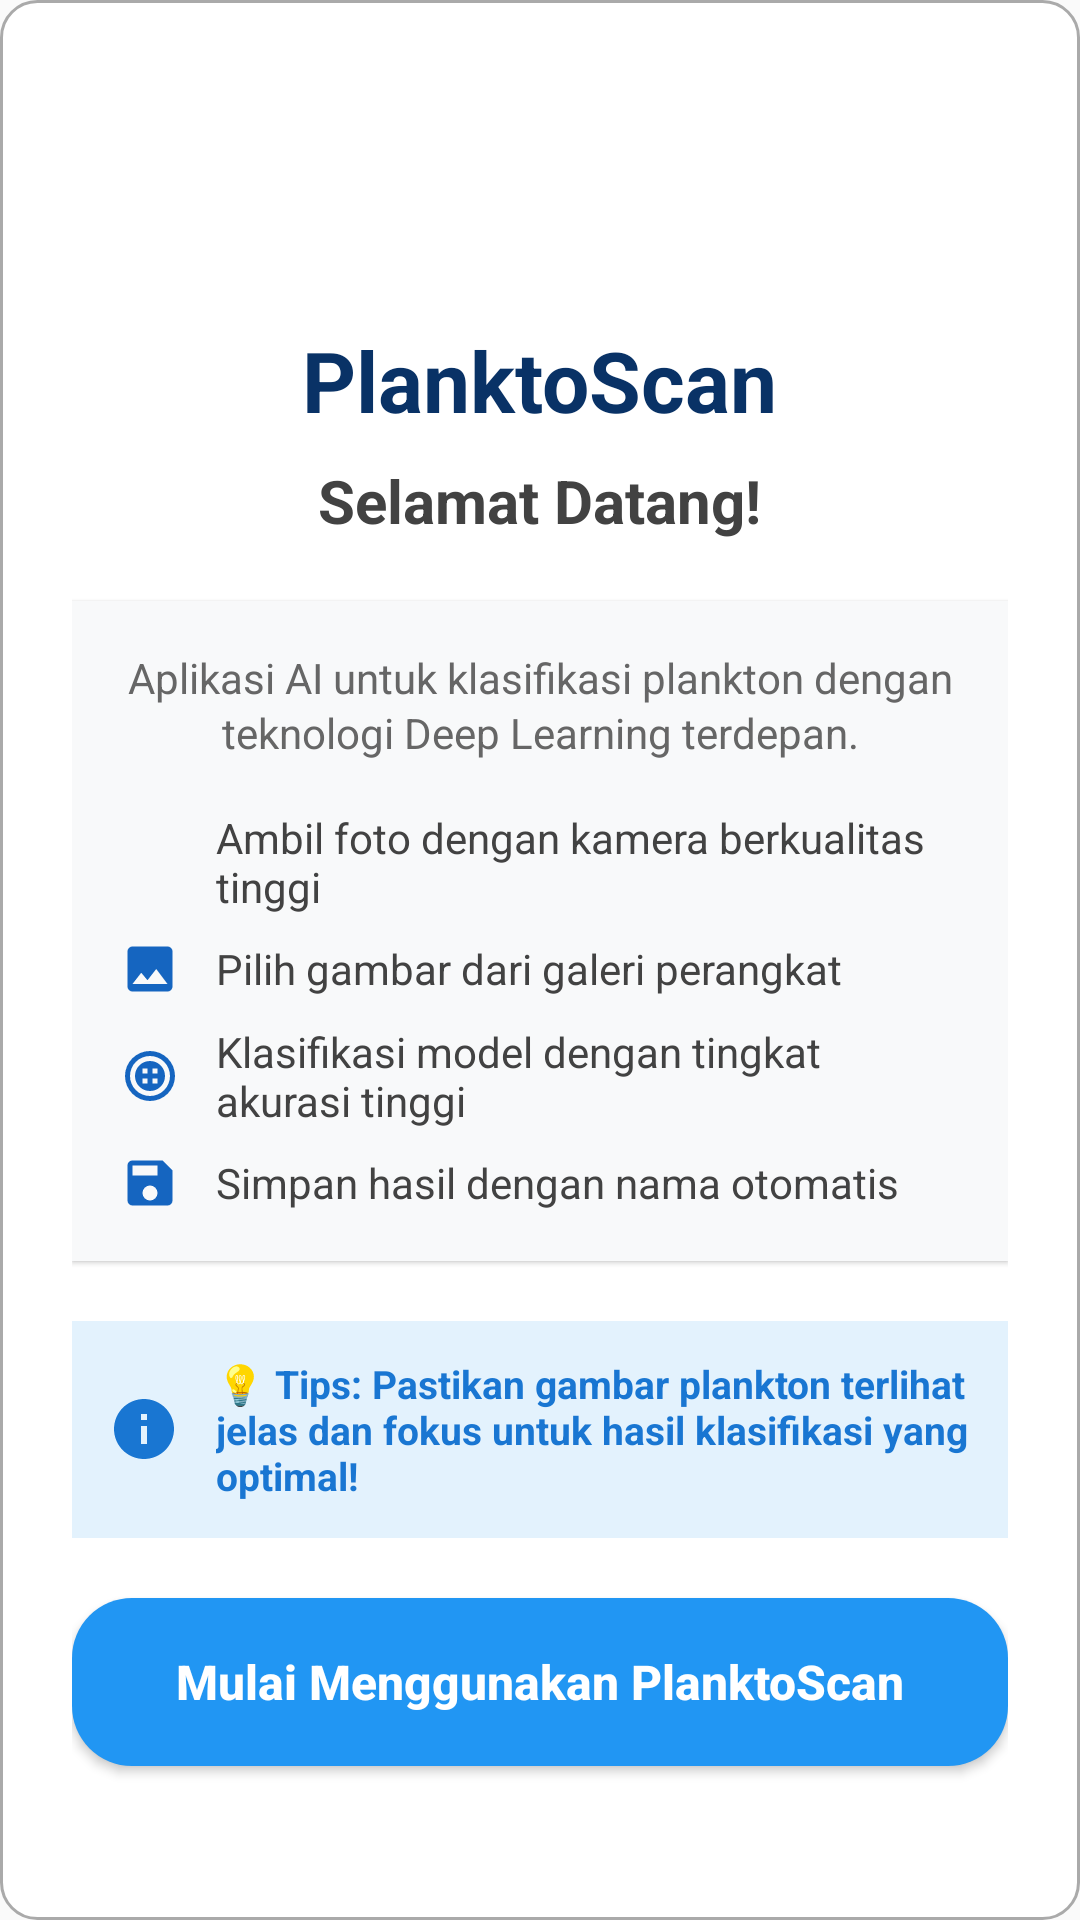

Icon click points for this 1080 x 1920 phone screenshot, format (x,y):
gallery: (150,969)
info: (144,1429)
save: (150,1183)
